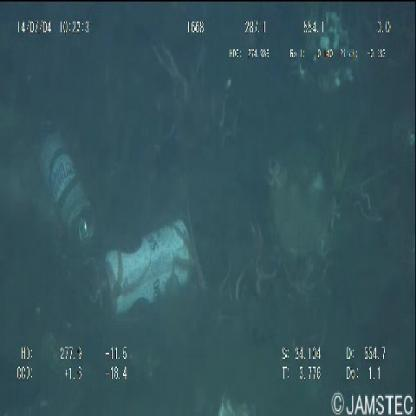Rác: (104, 219, 194, 322)
